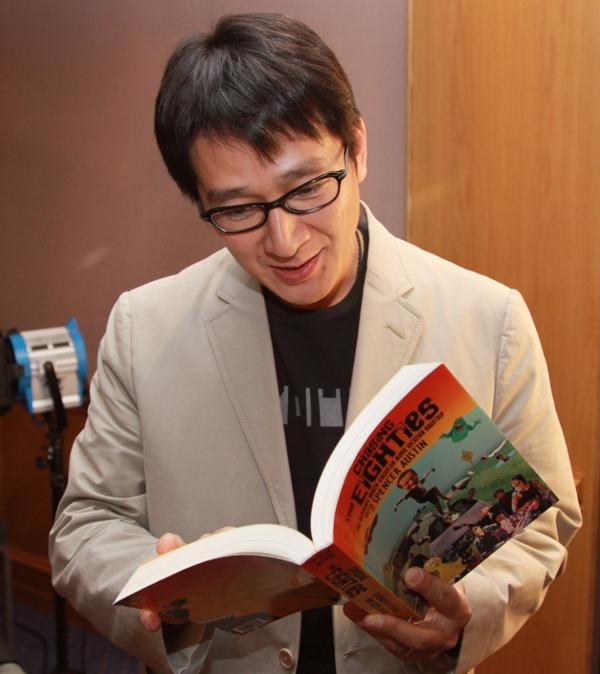person: (51, 15, 584, 673)
